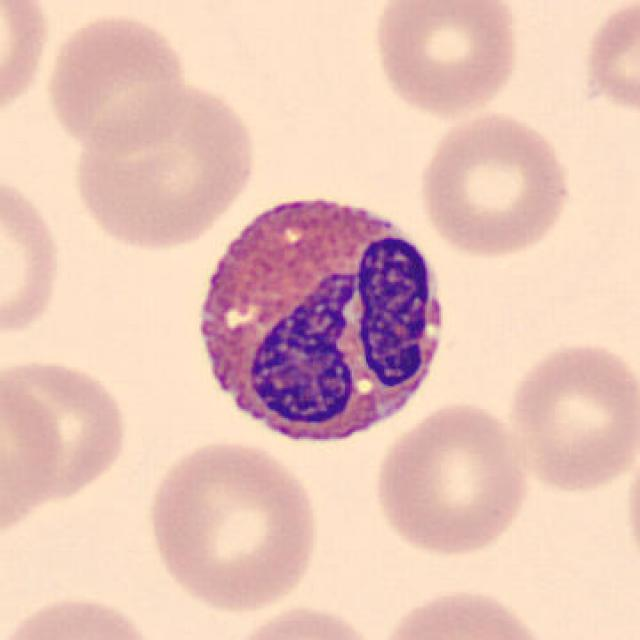Eosinophil: (178, 173, 462, 465)
RBC: (140, 434, 326, 615), (70, 79, 262, 254), (368, 397, 533, 560), (412, 108, 574, 259), (41, 9, 192, 155), (502, 335, 636, 497), (2, 351, 133, 516), (368, 0, 524, 122), (0, 356, 68, 547), (0, 166, 68, 347), (373, 583, 552, 640), (0, 589, 165, 640), (578, 0, 640, 123), (0, 0, 53, 134), (217, 601, 384, 640), (622, 427, 640, 587)
